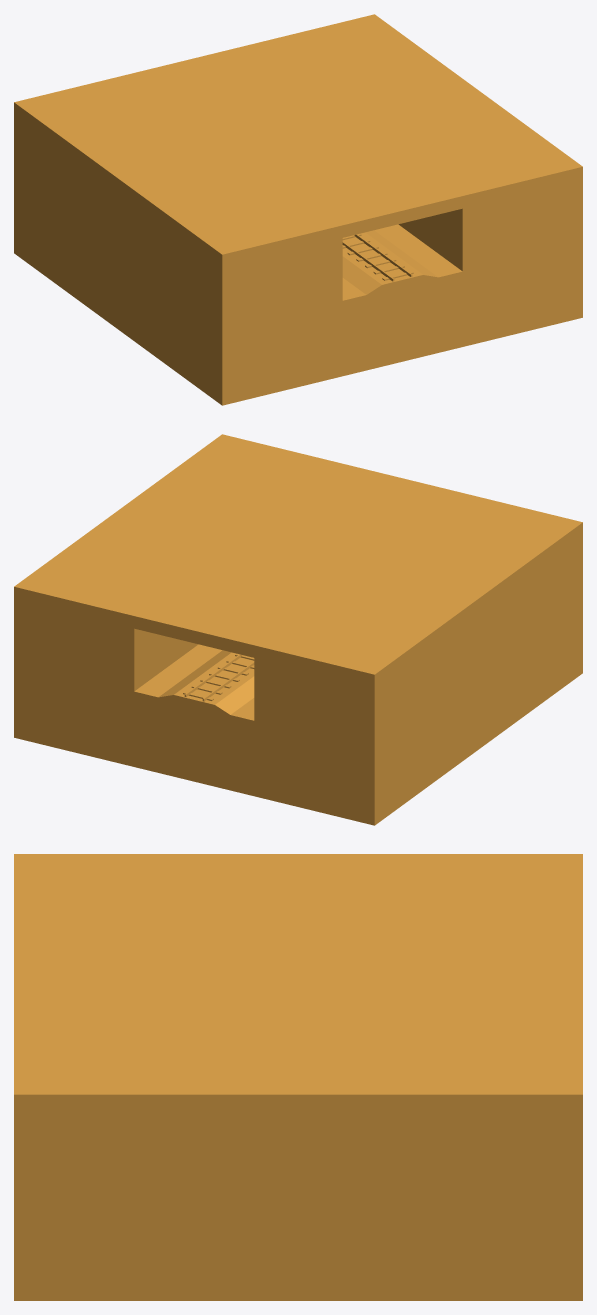
The model's file is tile-rail-tunnel.glb.
3 renders of one model, top to bottom at view 1: azimuth 30°, elevation 25°; view 2: azimuth 150°, elevation 25°; view 3: azimuth 270°, elevation 25°, orthographic. The views are drawn at different scales.
Parts seen in each view (by area): view 1: tile-rail-tunnel; view 2: tile-rail-tunnel; view 3: tile-rail-tunnel.
Boxes of the visible parts, x1,y1,x2,y2 form: tile-rail-tunnel: [14, 14, 582, 405]; tile-rail-tunnel: [14, 434, 582, 825]; tile-rail-tunnel: [14, 854, 582, 1300].
Bounding box in the file's own units: 30 × 12 × 30.
